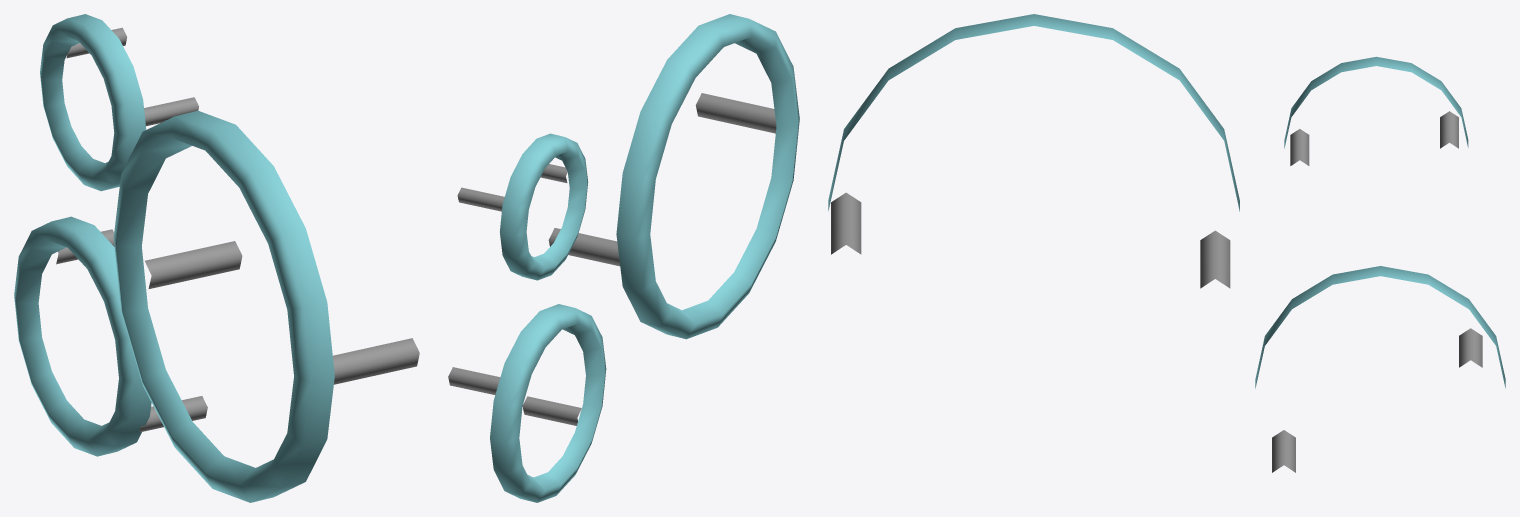
Rendered from NeonWallDecoration.glb.
3 views of the same model, side by side, from view 1: azimuth 30°, elevation 25°; view 2: azimuth 150°, elevation 25°; view 3: azimuth 270°, elevation 25° (orthographic). The views are drawn at different scales.
Visible parts, largest first — view 1: NeonWallDecoration; view 2: NeonWallDecoration; view 3: NeonWallDecoration.
Part boxes in pixels (x1,y1,x2,y2): NeonWallDecoration: [14, 14, 419, 502]; NeonWallDecoration: [448, 14, 799, 502]; NeonWallDecoration: [828, 14, 1505, 472].
Size of the model in its own units: 0.1848 by 0.674 by 0.8909.
